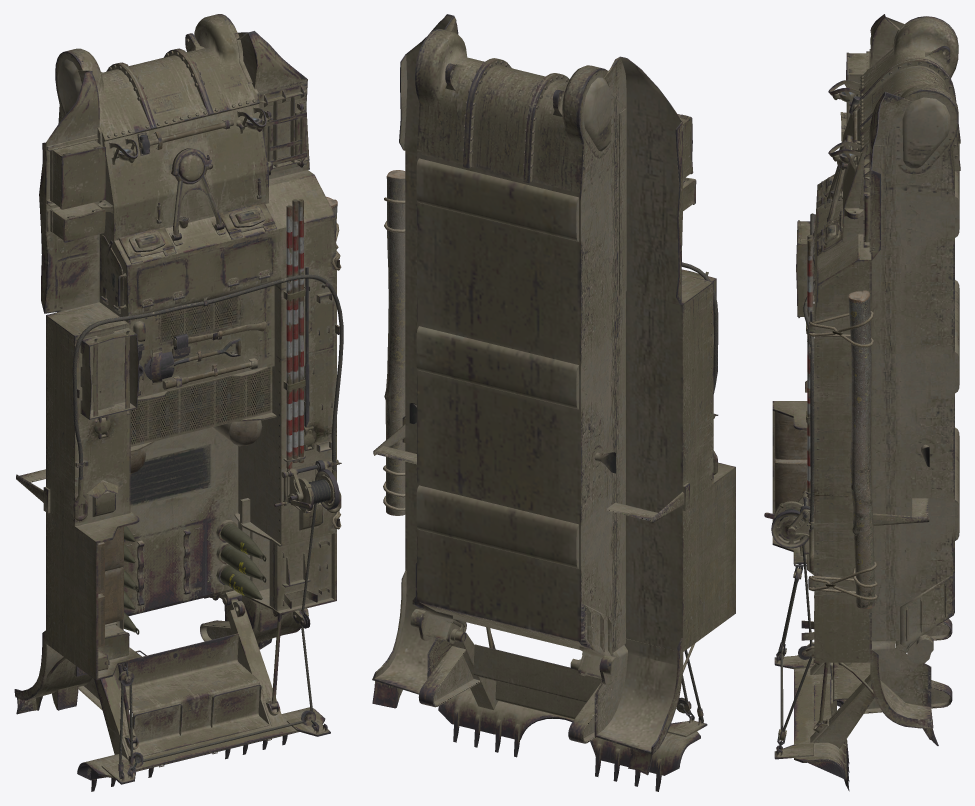
File: Hull.glb
The picture shows the model from 3 angles, left to right: view 1: azimuth 30°, elevation 25°; view 2: azimuth 150°, elevation 25°; view 3: azimuth 270°, elevation 25°; orthographic projection. The views are drawn at different scales.
Parts seen in each view (by area): view 1: set_0_group_0; view 2: set_0_group_0, set_0_group_1; view 3: set_0_group_0, set_0_group_1.
Part boxes in pixels (bbox=[...]): set_0_group_0: bbox=[14, 14, 343, 791]; set_0_group_0: bbox=[372, 14, 735, 791]; set_0_group_1: bbox=[383, 170, 405, 515]; set_0_group_0: bbox=[764, 14, 960, 791]; set_0_group_1: bbox=[808, 290, 877, 608].
Bounding box in the file's own units: 2.91 × 6.76 × 1.74.
2 materials, 2 textured.
